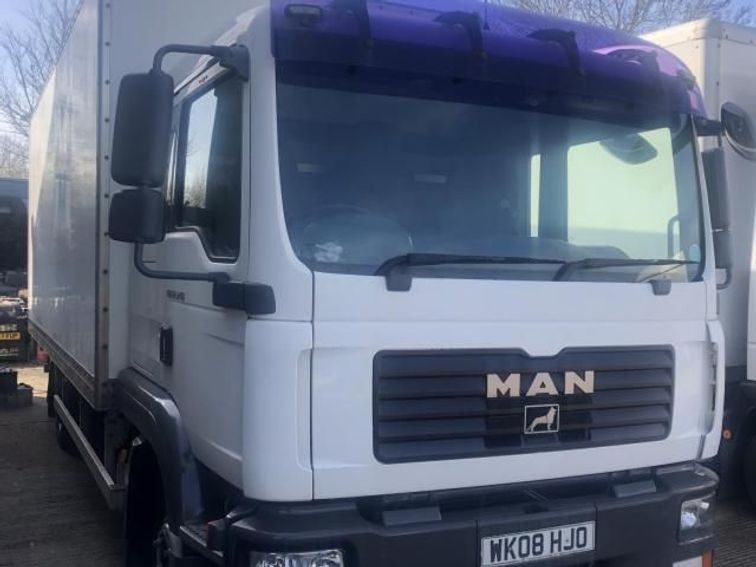Semi: (25, 0, 723, 566)
